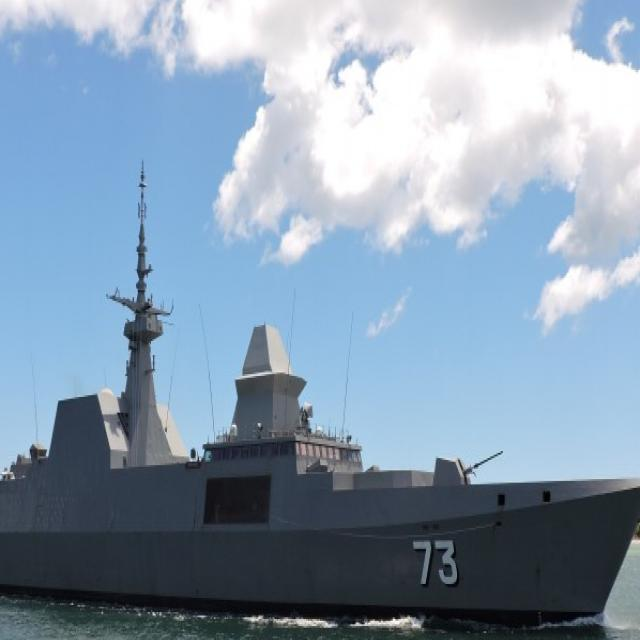Fragata: (1, 174, 640, 639)
